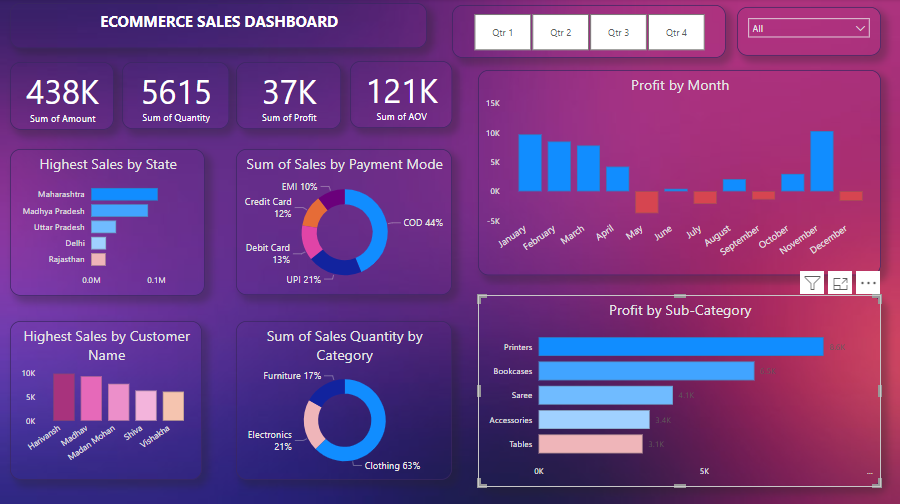

What the dashboard file says about the page in this screenshot:
{"tool":"powerbi","page":{"name":"Page 1","canvas":[1280,720],"ordinal":0},"visuals":[{"type":"textbox","box":[18.4,5.7,591,63.8],"z":0},{"type":"columnChart","title":"Profit by Month","fields":{"Category":["Orders.Order Date.Variation.Date Hierarchy.Month"],"Y":["Details.Profit"]},"box":[681.7,100.6,571.2,290.6],"z":1000},{"type":"barChart","title":"Profit by Sub-Category","fields":{"Category":["Details.Sub-Category"],"Y":["Details.Profit"]},"box":[681.7,419.5,571.2,272.1],"z":2000},{"type":"donutChart","title":"Sum of Sales Quantity by Category","fields":{"Y":["Details.Quantity"],"Category":["Details.Category"]},"box":[338.7,456.4,306.1,225.4],"z":3000},{"type":"donutChart","title":"Sum of Sales by Payment Mode","fields":{"Y":["Details.Quantity"],"Category":["Details.PaymentMode"]},"box":[338.7,212.6,306.1,206.9],"z":4000},{"type":"card","fields":{"Values":["Details.Amount"]},"box":[18.4,89.3,147.4,96.4],"z":5000},{"type":"card","fields":{"Values":["Details.Profit"]},"box":[338.7,89.3,148.8,95],"z":6000},{"type":"card","fields":{"Values":["Details.Quantity"]},"box":[177.2,89.3,151.7,95],"z":7000},{"type":"card","fields":{"Values":["Details.AOV"]},"box":[500.3,87.9,144.6,95],"z":8000},{"type":"barChart","title":"Highest Sales by State","fields":{"Category":["Orders.State"],"Y":["Details.Amount"]},"box":[18.4,212.6,276.4,208.3],"z":9000},{"type":"columnChart","title":"Highest Sales by Customer Name","fields":{"Category":["Orders.CustomerName"],"Y":["Details.Amount"]},"box":[18.4,456.4,272.1,225.4],"z":10000},{"type":"slicer","fields":{"Values":["Orders.State"]},"box":[1048.8,11.3,204.1,69.4],"z":12000},{"type":"slicer","fields":{"Values":["Orders.Order Date.Variation.Date Hierarchy.Quarter"]},"box":[644.9,8.5,388.3,75.1],"z":12001}]}

Visuals, with their boxes in screenshot pixels (x1, y1, x2, y2), scaled from the page's 1280x720 canvas onto the 900x504 screenshot:
textbox: bbox(13, 4, 428, 49)
"Profit by Month" columnChart: bbox(479, 70, 881, 274)
"Profit by Sub-Category" barChart: bbox(479, 294, 881, 484)
"Sum of Sales Quantity by Category" donutChart: bbox(238, 319, 453, 477)
"Sum of Sales by Payment Mode" donutChart: bbox(238, 149, 453, 294)
card - Details.Amount: bbox(13, 63, 117, 130)
card - Details.Profit: bbox(238, 63, 343, 129)
card - Details.Quantity: bbox(125, 63, 231, 129)
card - Details.AOV: bbox(352, 62, 453, 128)
"Highest Sales by State" barChart: bbox(13, 149, 207, 295)
"Highest Sales by Customer Name" columnChart: bbox(13, 319, 204, 477)
slicer - Orders.State: bbox(737, 8, 881, 56)
slicer - Orders.Order Date.Variation.Date Hierarchy.Quarter: bbox(453, 6, 726, 59)
